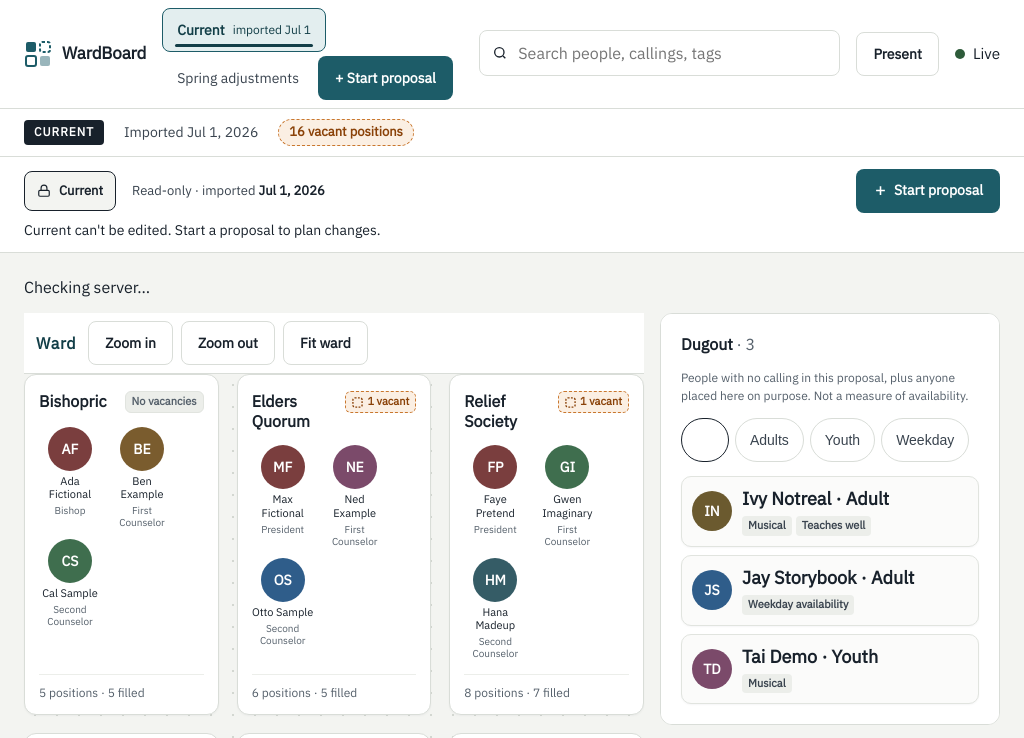
Test case: T-088 member tags › an editor sees Needs approval as read-only text
Click the tab "Spring adjustments": (238, 78) [162,56,314,100]
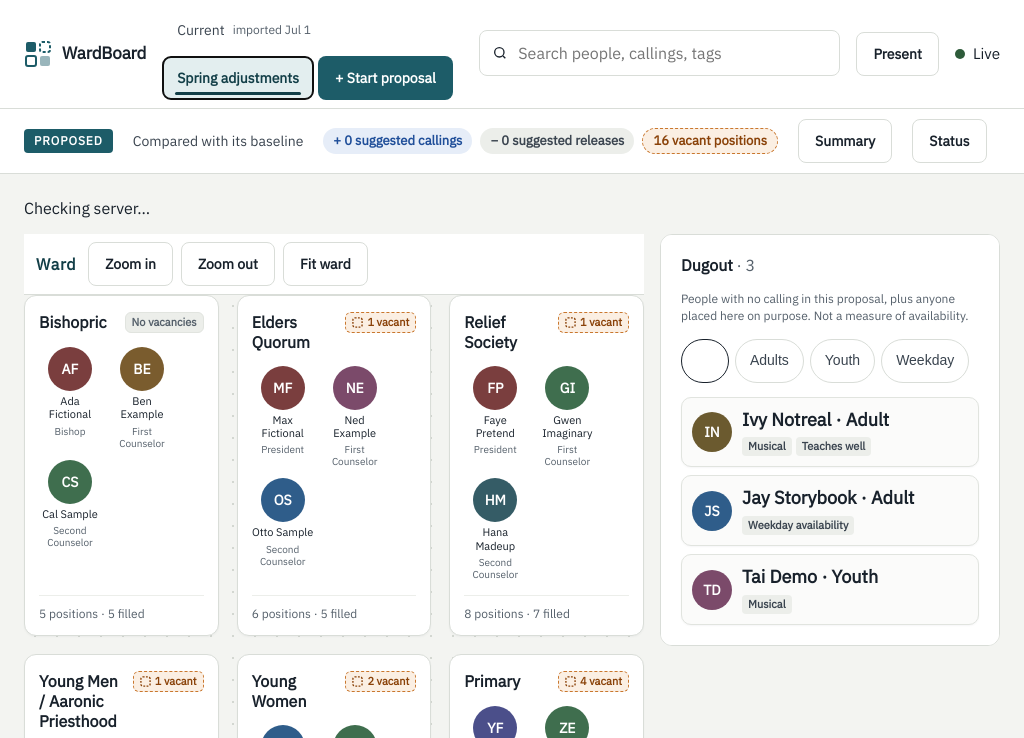
Click the element showing "IA Ivy Notreal · Adult Musical Teaches well": (830, 432) [681,397,979,467]
(page scrolled)
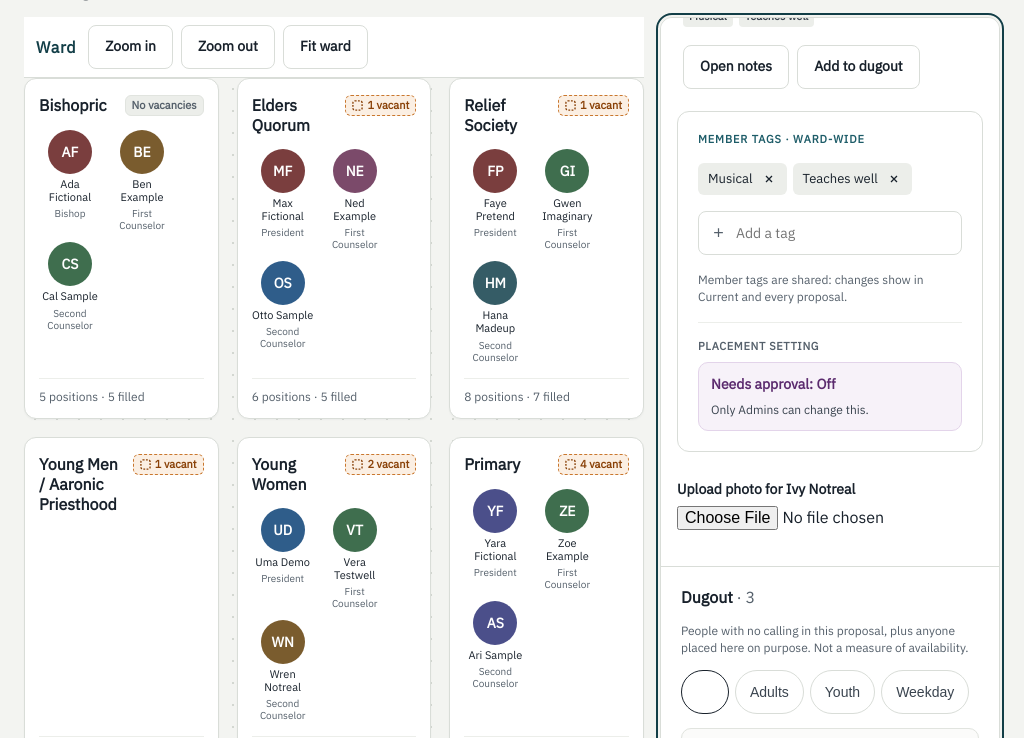
Check: the text "Needs approval: Off" is shown, box [711,375,836,393]
